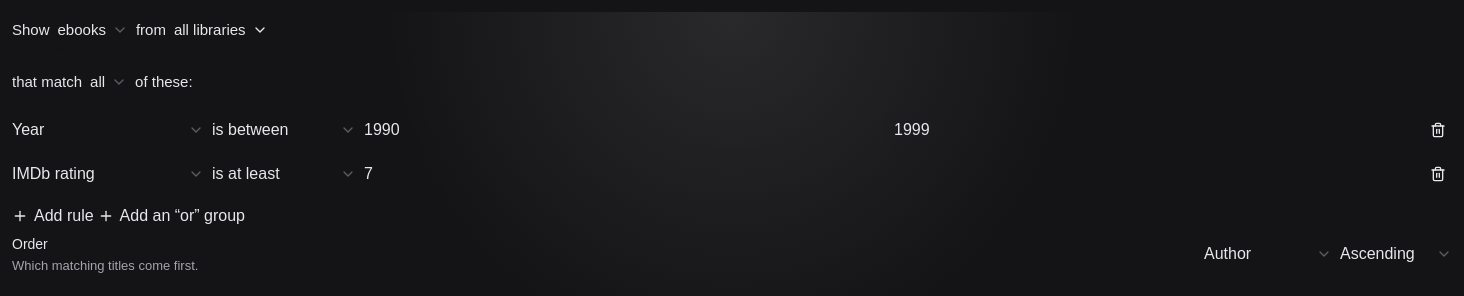
it: RuleBuilder › offers only the orders the row's kind of title supports
This screenshot has width=1464, height=296.
Press the mouse on the dropdown named "Sort by" at (1268, 254), box [1204, 236, 1332, 272]
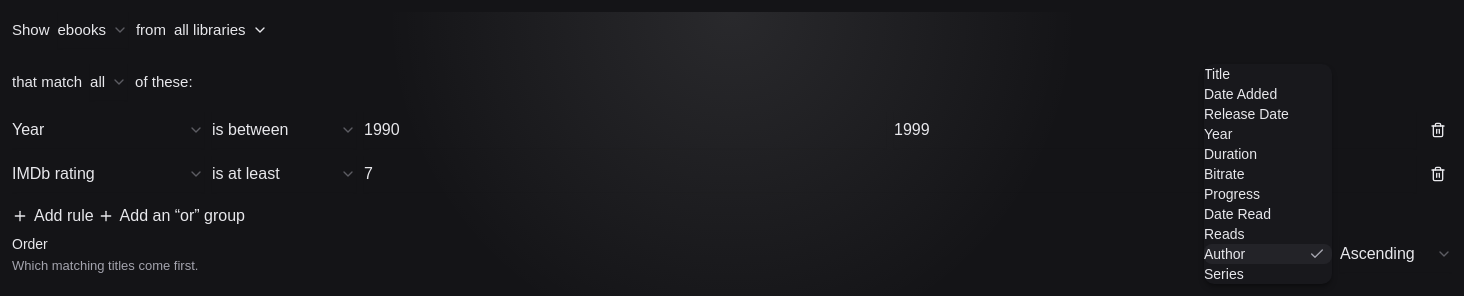
Expected: the option "Author" is shown, [1204, 244, 1332, 264]
